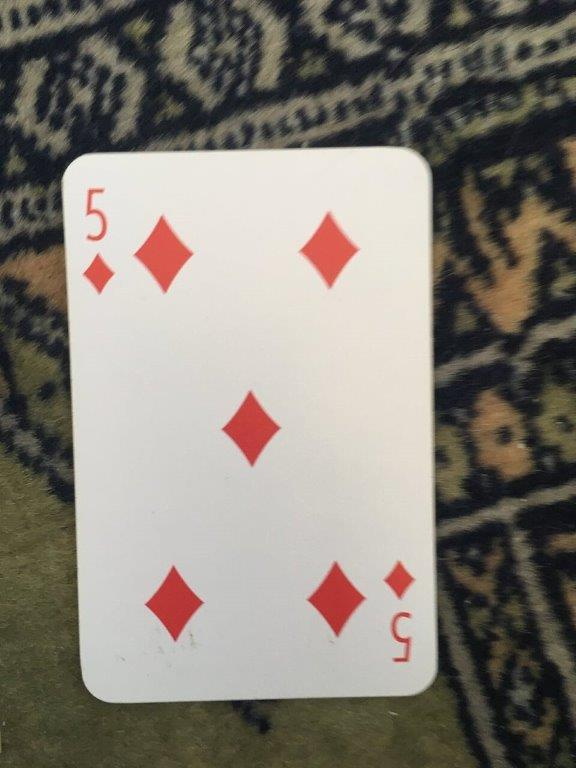5D: (56, 143, 441, 707)
